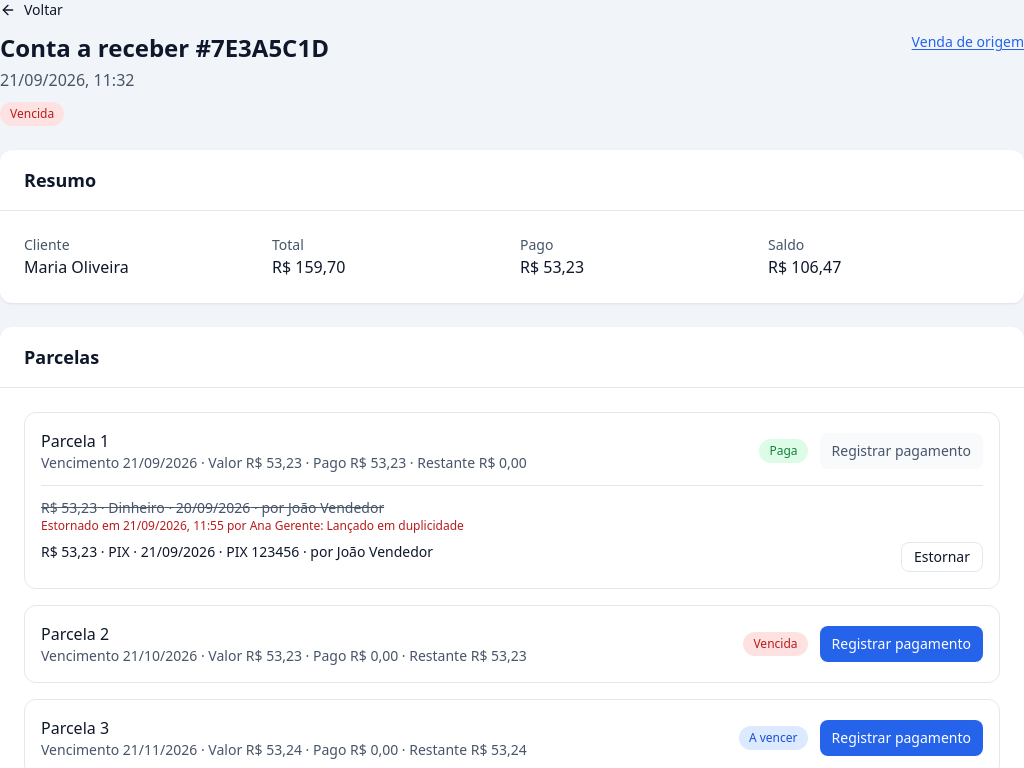
Test: ReceivableDetailPage › data padrão do pagamento usa o dia de São Paulo, não o do navegador
Expected: the text "Maria Oliveira" is shown, [24,256,129,278]
What coordinates should you click on to do the following:
click the button "Registrar pagamento" in the row of "21/10/2026"
I would click on:
 (901, 644)
Its box is [820,626,983,662].
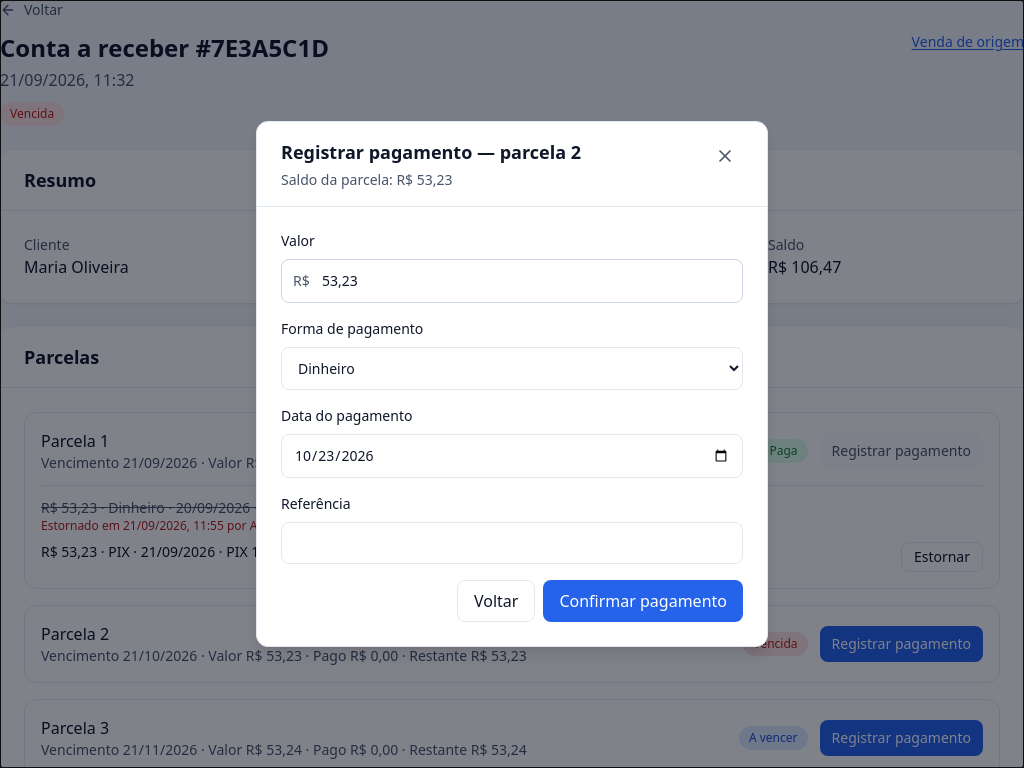
Expected: the date field labelled "Data do pagamento" holds "2026-10-23", [281,434,743,478]
